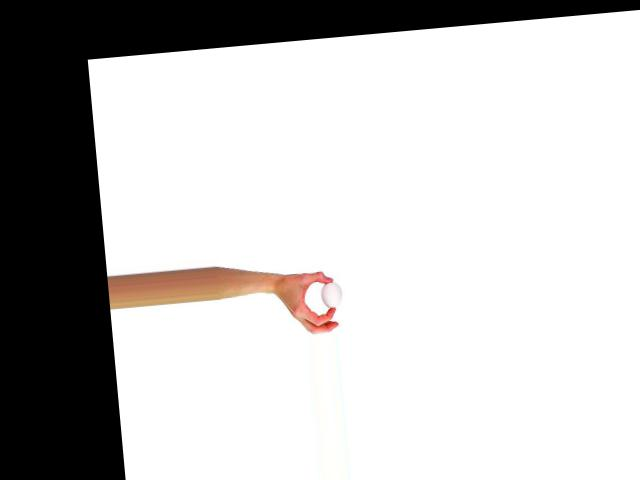egg: (319, 281, 343, 308)
